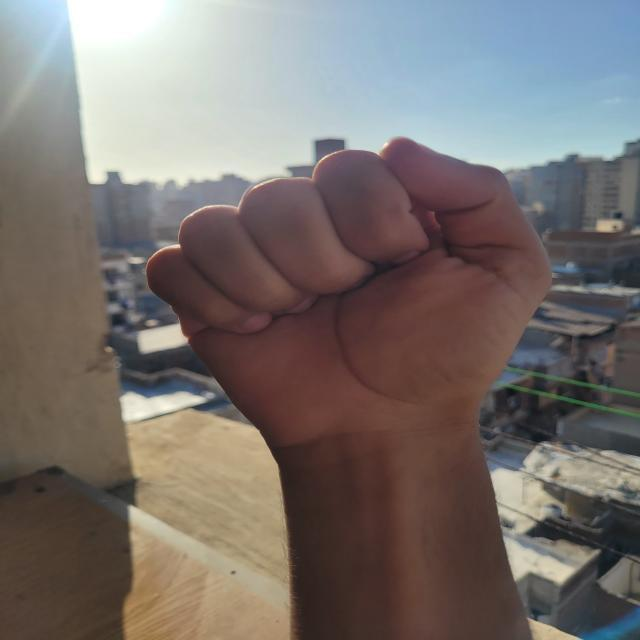Closed Hand: (142, 135, 554, 451)
